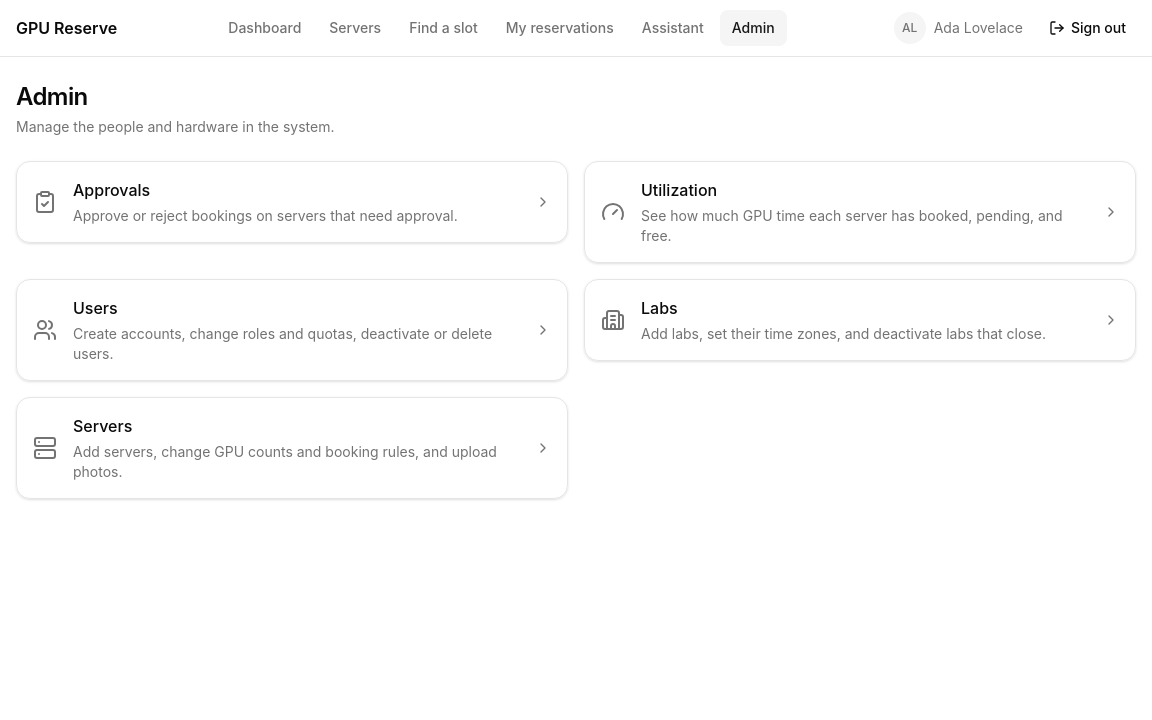
it: approval queue › is reached from the admin hub
Click the link "Approvals".
click(112, 190)  # box [16, 161, 568, 243]
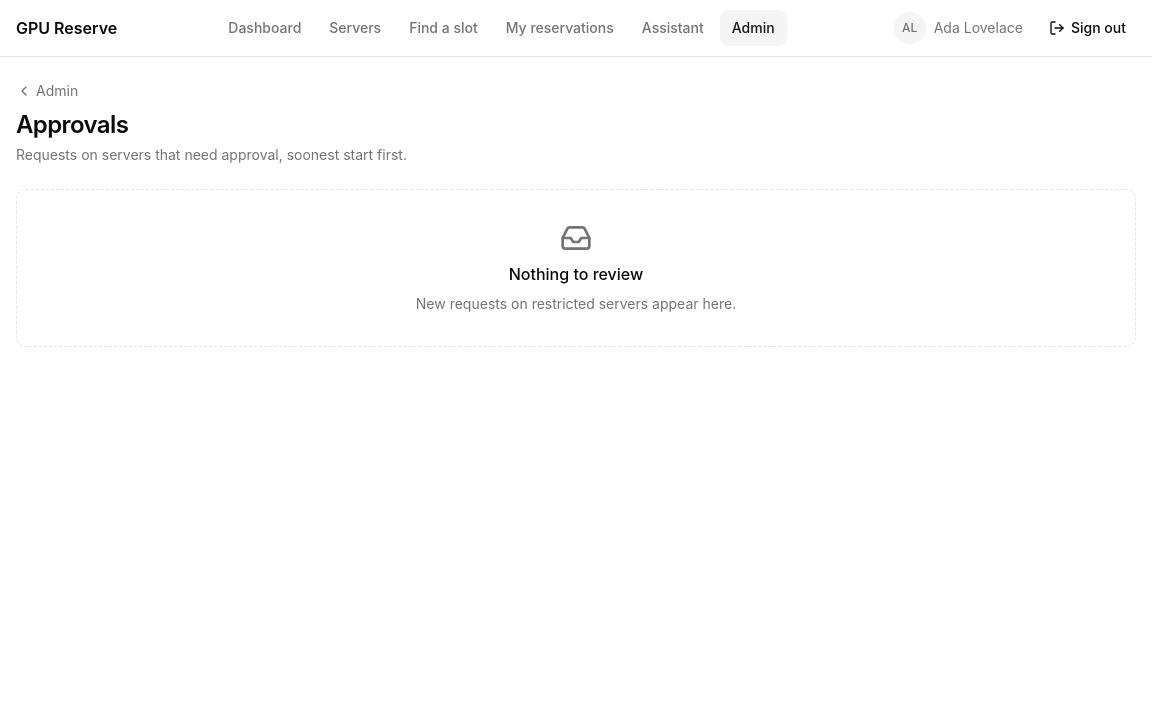
Result: the text "Nothing to review" is shown at [509, 262, 643, 286]
